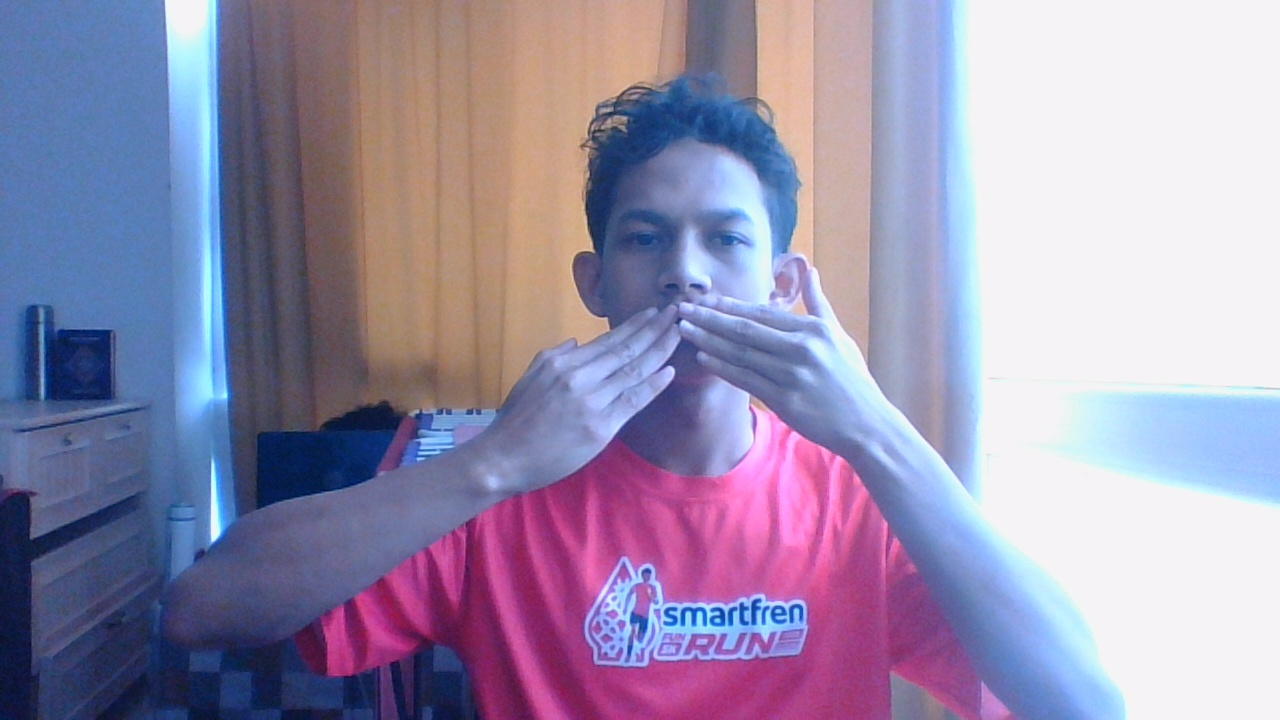love: (479, 275, 886, 492)
